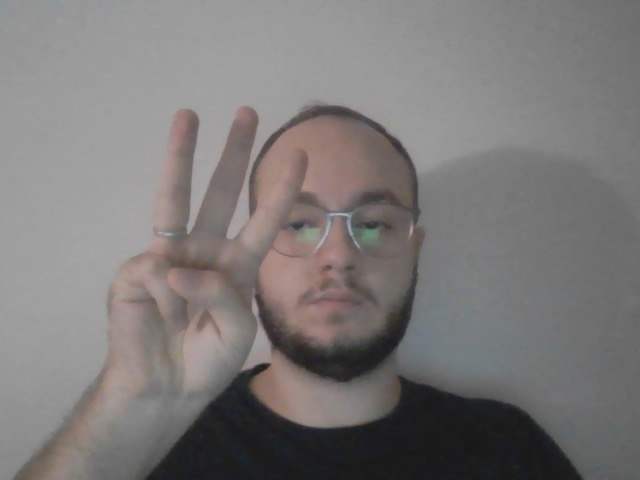Three: (106, 105, 308, 411)
